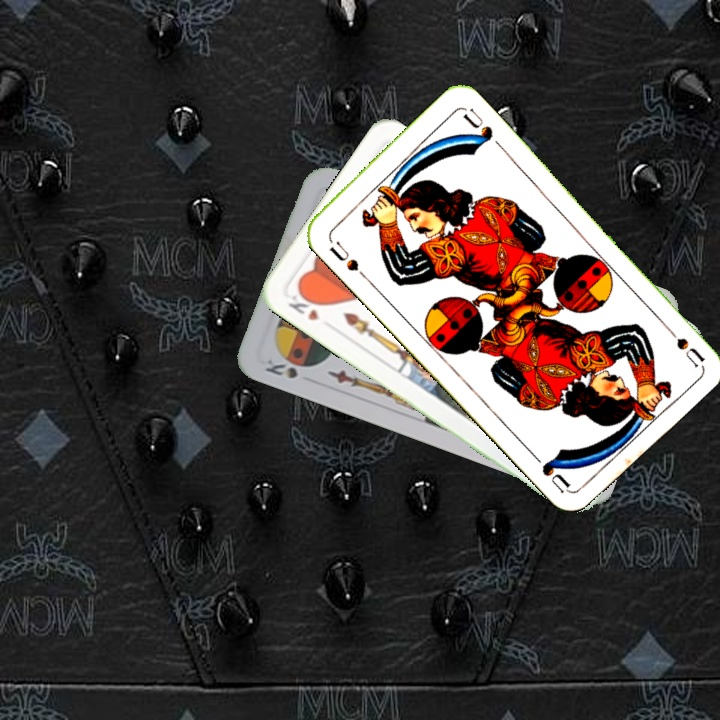HK: (284, 286, 324, 324)
SK: (261, 353, 301, 382)
SU: (658, 318, 706, 369), (325, 237, 370, 281)
